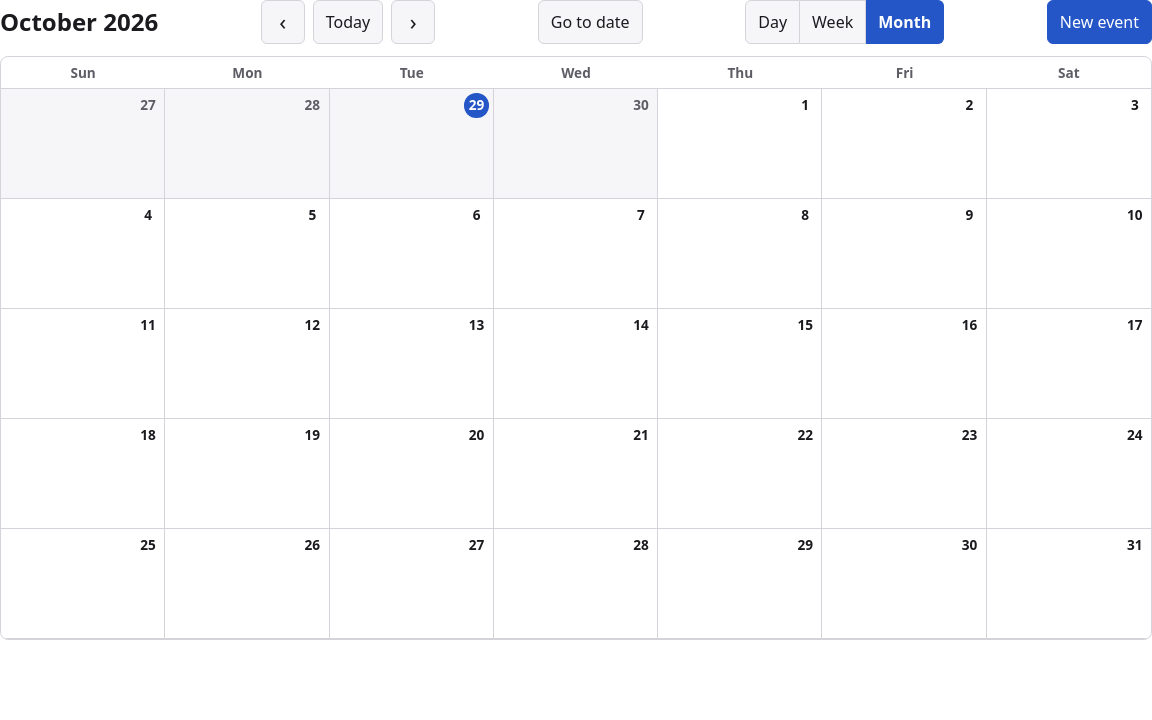
Test case: CalendarScreen: moving through time (US2) › goes to a chosen date in the same view (FR-011)
Click the button "Week".
click(833, 22)  # box [800, 0, 866, 44]
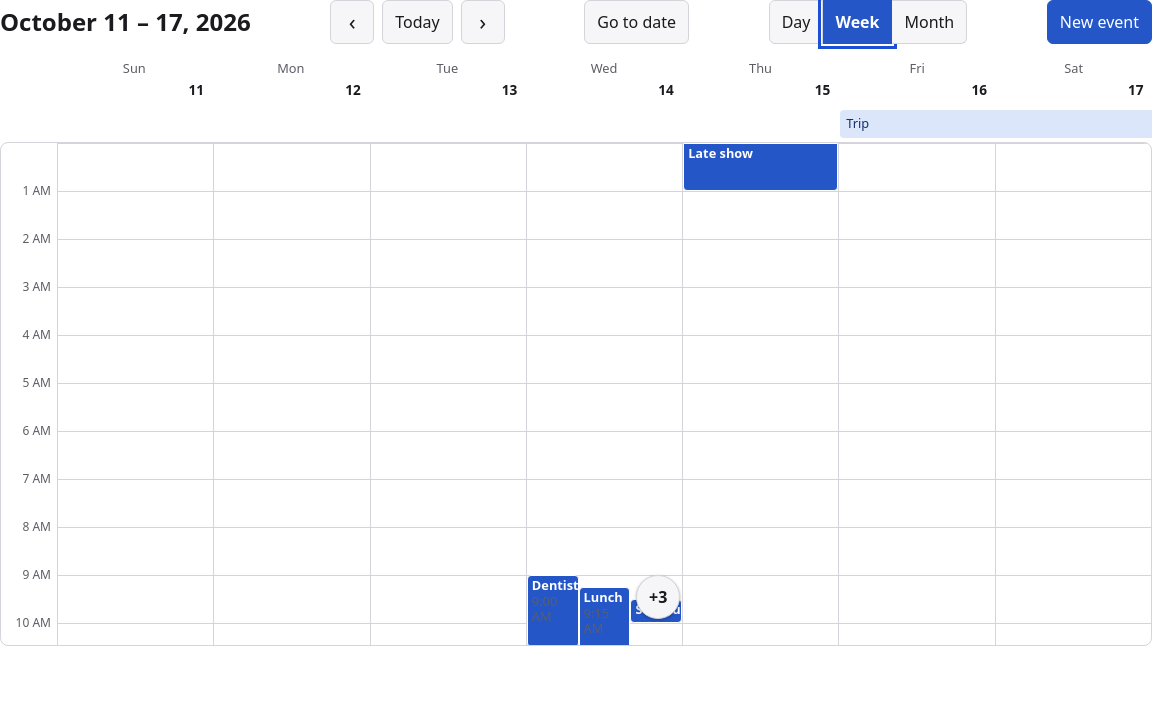
Click the button "Go to date".
click(637, 22)  # box [584, 0, 689, 44]
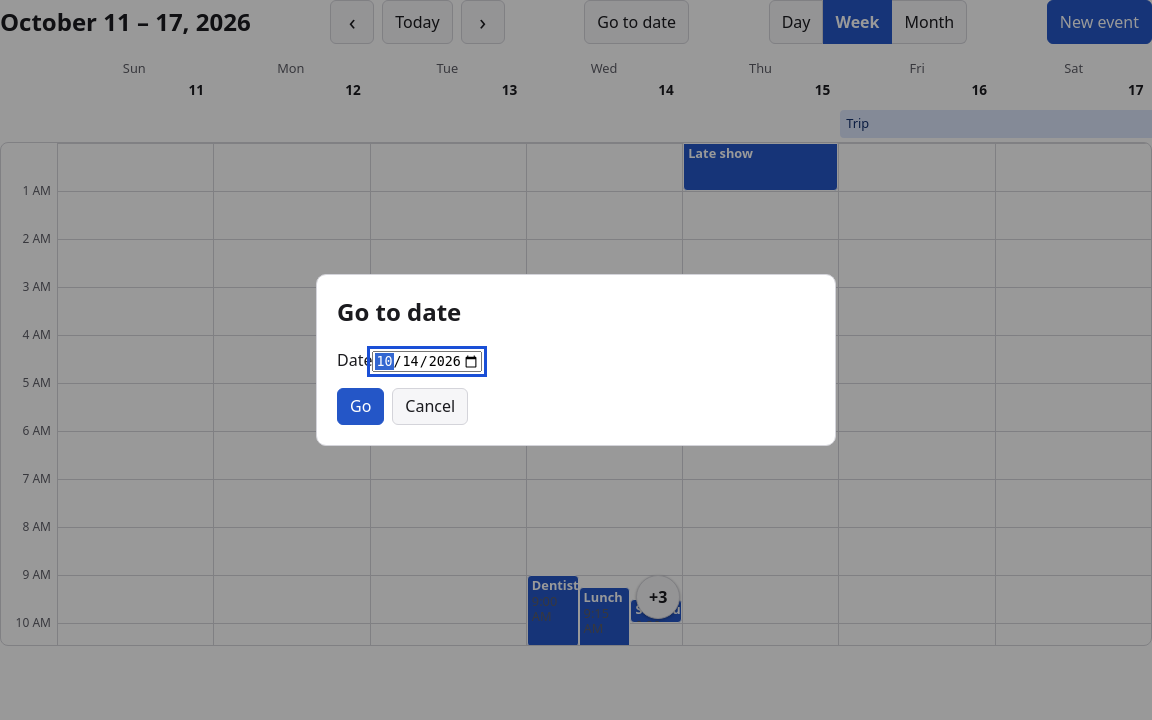
Type "2027-03-03" into the date field labelled "Date".
click(427, 361); type("2027-03-03")  # box [372, 351, 482, 372]
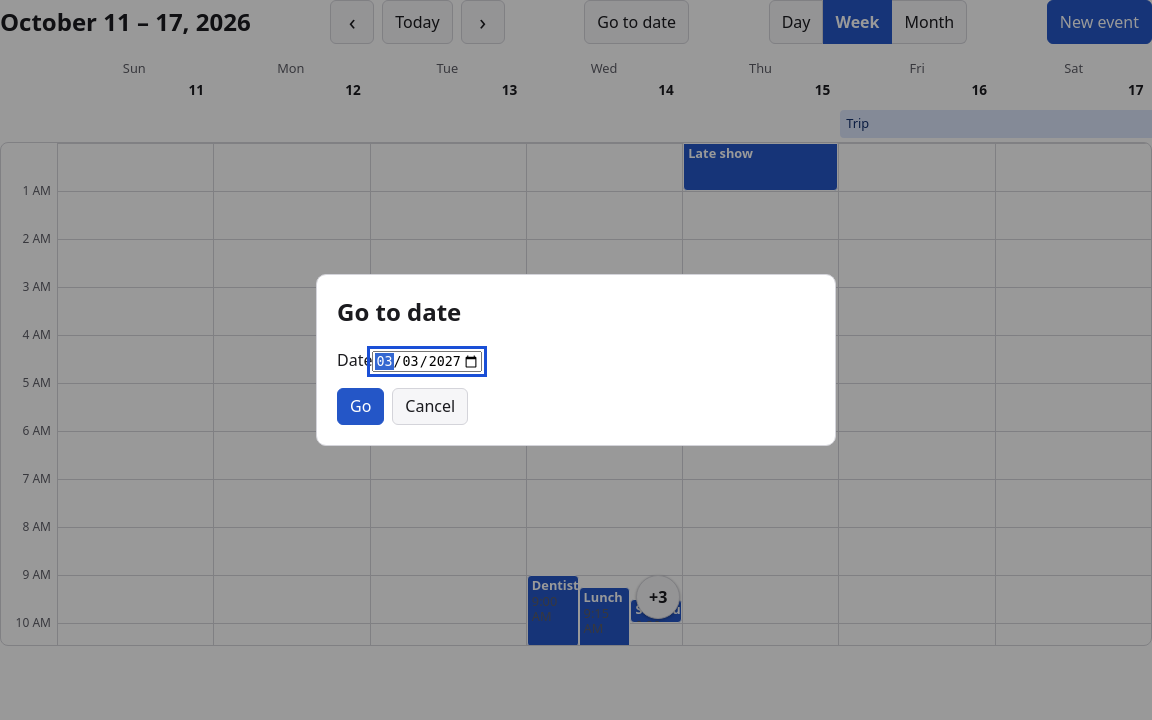
Click the button "Go".
click(361, 406)  # box [337, 388, 384, 424]
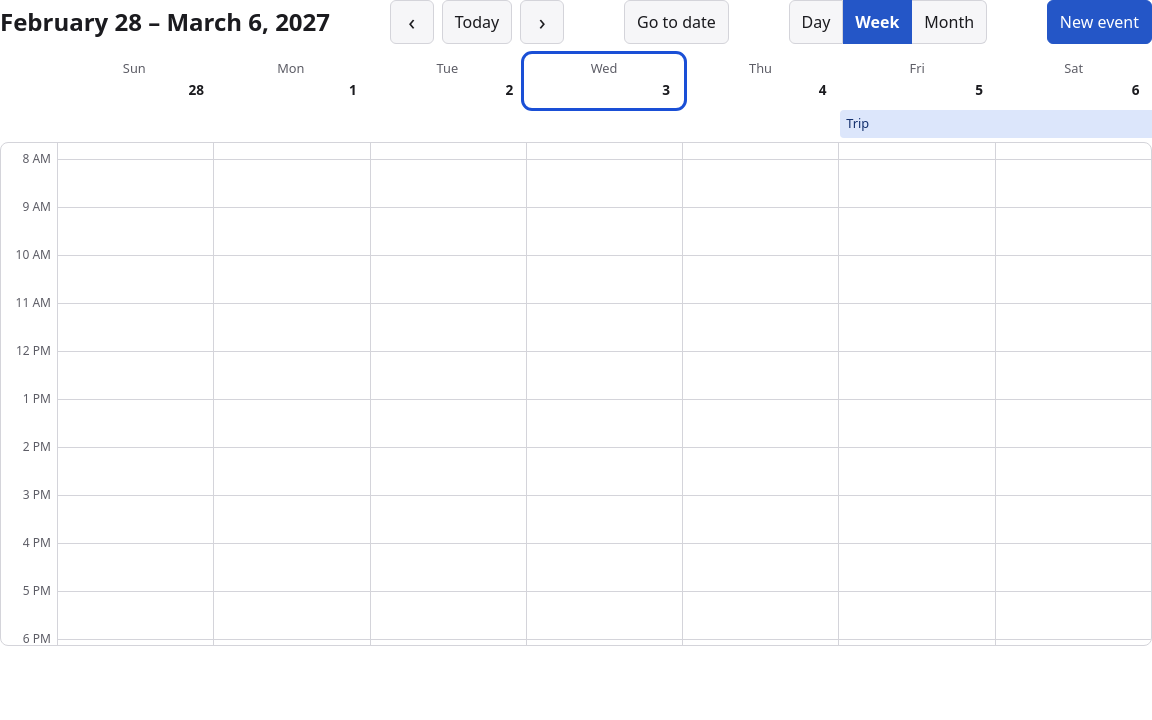
Now the heading "February 28 – March 6, 2027" is shown, box [0, 5, 330, 39]
